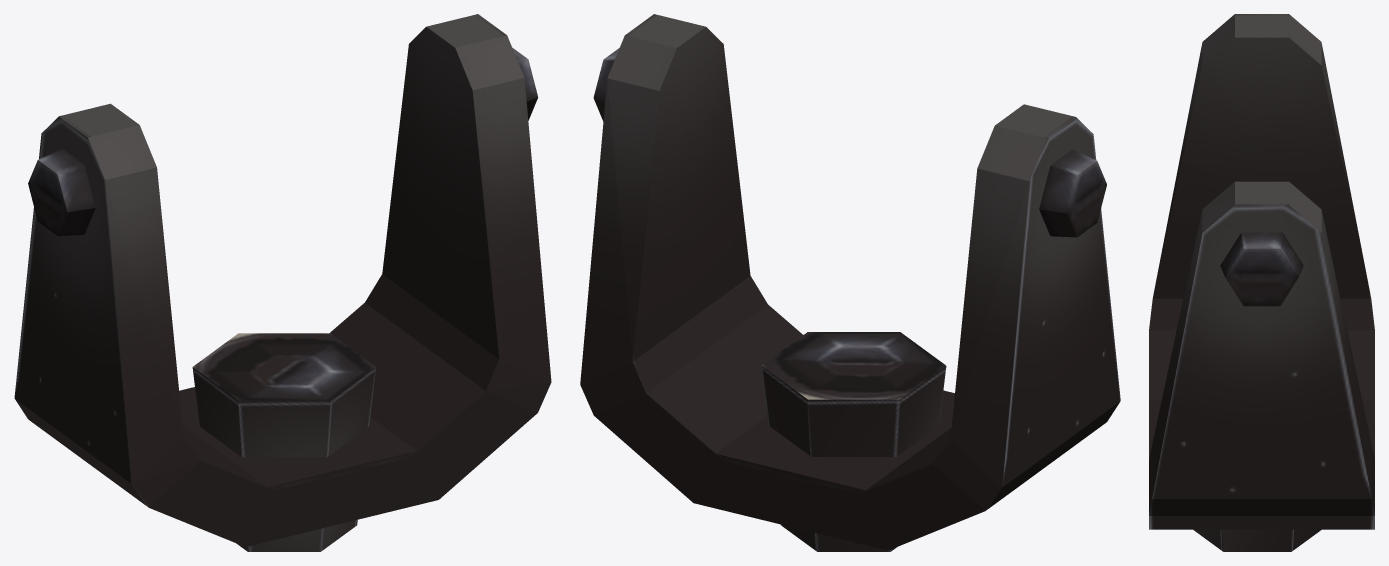
File: Tower_Head.DAE
3 views of the same model, side by side, from view 1: azimuth 30°, elevation 25°; view 2: azimuth 150°, elevation 25°; view 3: azimuth 270°, elevation 25° (orthographic). The views are drawn at different scales.
Visible parts, largest first — view 1: Tower_Head; view 2: Tower_Head; view 3: Tower_Head.
Boxes of the visible parts, x1=… form: Tower_Head: x1=14, y1=14, x2=551, y2=551; Tower_Head: x1=580, y1=14, x2=1120, y2=551; Tower_Head: x1=1149, y1=14, x2=1374, y2=551.
Bounding box in the file's own units: 0.754 × 0.6846 × 0.3354.
